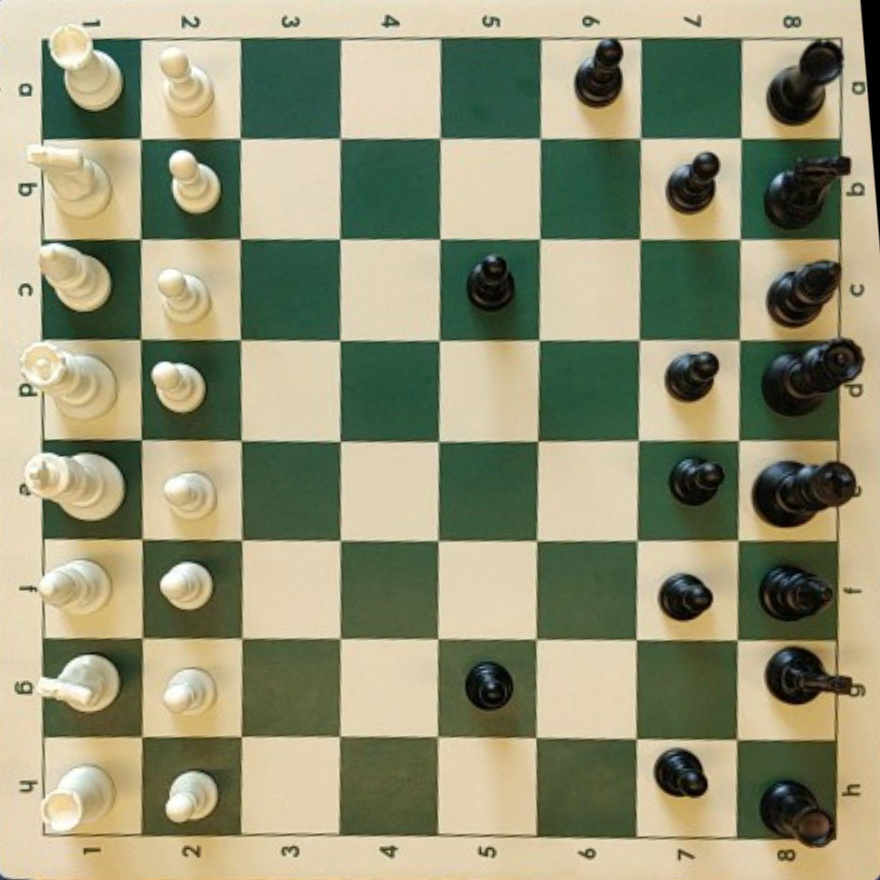black-bishop: (768, 260, 841, 326), (760, 564, 834, 621)
black-king: (754, 460, 858, 526)
black-knight: (764, 155, 850, 228), (766, 647, 864, 704)
black-pawn: (575, 38, 624, 105), (667, 152, 721, 211), (655, 749, 709, 798), (467, 254, 515, 309), (670, 456, 725, 504), (665, 352, 720, 400), (659, 573, 713, 620), (465, 661, 513, 710)
black-queen: (763, 339, 864, 415)
black-rook: (768, 40, 842, 123), (761, 779, 834, 847)
white-bishop: (36, 559, 111, 613), (62, 260, 118, 320)
white-king: (21, 451, 124, 521)
white-knight: (24, 142, 112, 217), (16, 653, 120, 712)
white-pawn: (160, 50, 213, 117), (168, 149, 221, 214), (164, 770, 218, 824), (151, 361, 206, 414), (156, 268, 209, 322), (159, 560, 213, 610), (163, 471, 215, 520), (163, 667, 215, 714)
white-queen: (19, 345, 117, 419)
white-rook: (49, 27, 123, 112), (41, 765, 114, 835)
